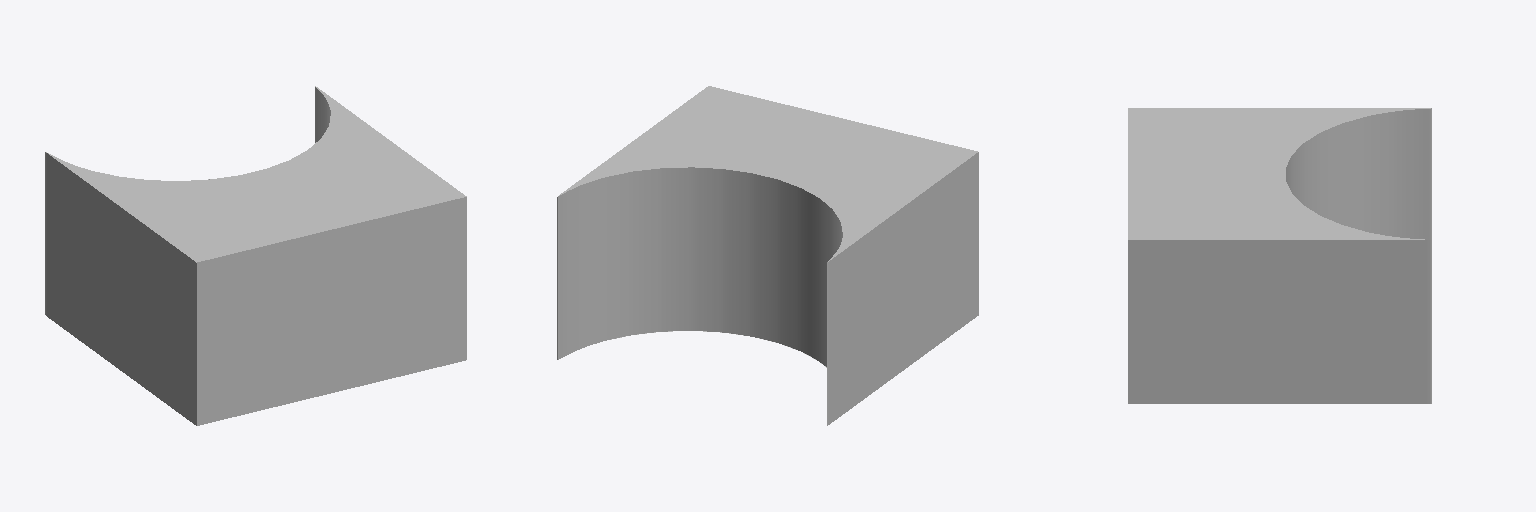
Rendered from test ramp.obj.
The picture shows the model from 3 angles: view 1: azimuth 30°, elevation 25°; view 2: azimuth 150°, elevation 25°; view 3: azimuth 270°, elevation 25°; orthographic projection.
Visible parts, largest first — view 1: Circle; view 2: Circle; view 3: Circle.
Boxes of the visible parts, box(x1,y1,x2,y2) form: Circle: box(45, 86, 466, 425); Circle: box(557, 86, 978, 425); Circle: box(1128, 108, 1431, 403).
Size of the model in its own units: 100 by 57.84 by 97.12.